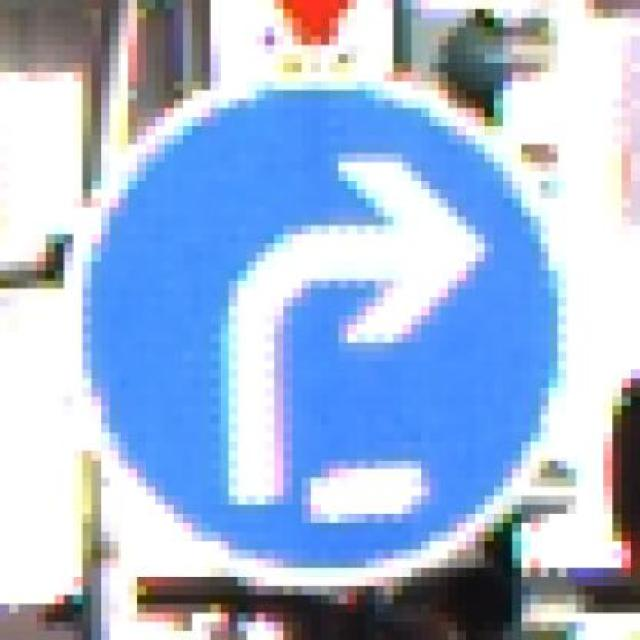Turn right ahead: (46, 72, 576, 596)
